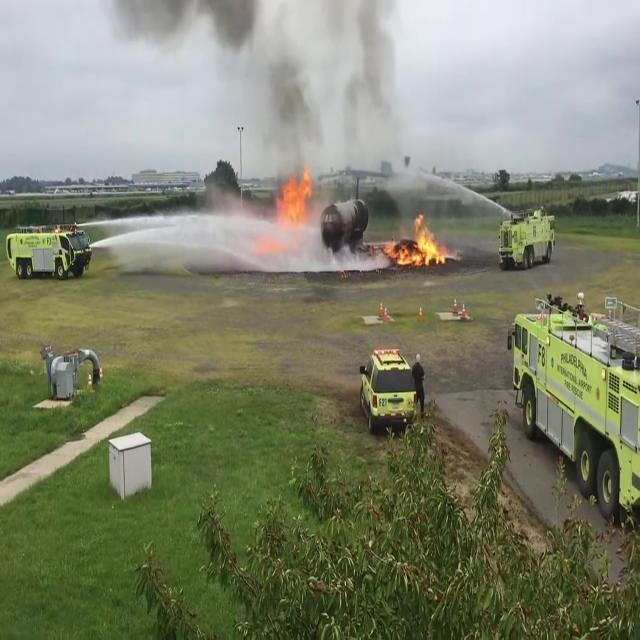Fire: (388, 208, 452, 272), (274, 163, 318, 235)
Smoke: (210, 0, 418, 185)
